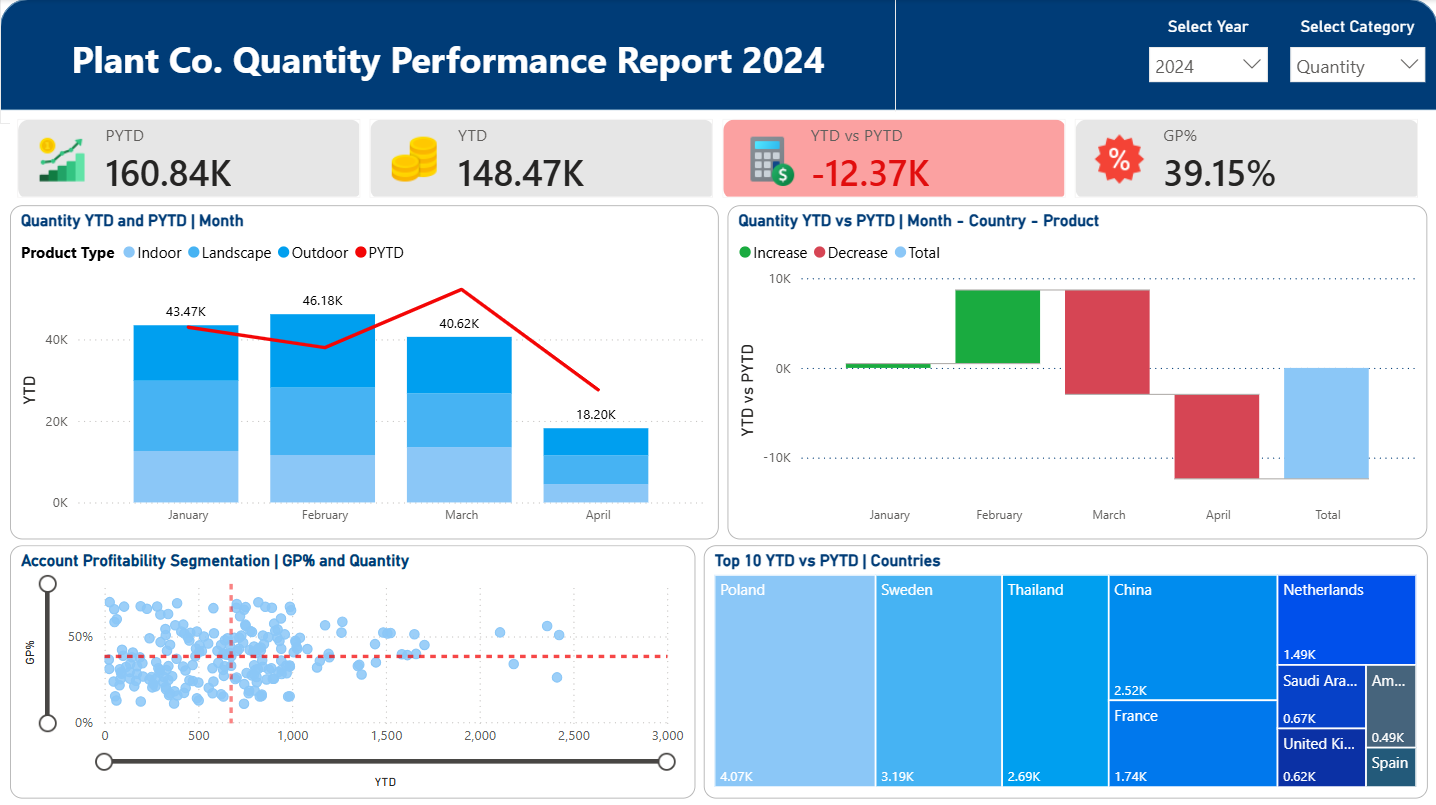

What the dashboard file says about the page in this screenshot:
{"tool":"powerbi","page":{"name":"Page 1","canvas":[1280,720],"ordinal":0},"visuals":[{"type":"shape","box":[0,0,1280.2,99.1],"z":0},{"type":"cardVisual","fields":{"Data":["_Measures._Report title"]},"box":[0,0,798.5,111.7],"z":1000},{"type":"slicer","title":"Select Category","fields":{"Values":["Slc_Values.Values"]},"box":[1138.8,15.6,140.3,82.4],"z":2000},{"type":"slicer","title":"Select Year","fields":{"Values":["Dim_Date.Date.Variation.Date Hierarchy.Year"]},"box":[1013,15.6,125.8,82.4],"z":3000},{"type":"waterfallChart","fields":{"Y":["_Measures.YTD vs PYTD"],"Category":["Dim_Date.Date.Variation.Date Hierarchy.Month","Dim_Account.country","Dim_Product.Produt_Type","Dim_Product.Product_Name"]},"box":[648.4,183.7,623.2,297.8],"z":4000},{"type":"lineStackedColumnComboChart","fields":{"Y2":["_Measures.S_PYTD"],"Y":["_Measures.S_YTD"],"Category":["Dim_Date.Date.Variation.Date Hierarchy.Quarter","Dim_Date.Date.Variation.Date Hierarchy.Month"],"Series":["Dim_Product.Produt_Type"]},"box":[8.4,183.5,631.6,297.8],"z":5000},{"type":"scatterChart","fields":{"Y":["_Measures.GP%"],"X":["_Measures.S_YTD"],"Category":["Dim_Account.Account"]},"box":[8.9,486.5,610,226],"z":6000},{"type":"treemap","title":"Top 10 YTD vs PYTD | Countries","fields":{"Values":["_Measures.YTD vs PYTD"],"Group":["Dim_Account.country"]},"box":[626.8,486.3,644.8,225.7],"z":7000},{"type":"cardVisual","fields":{"Data":["_Measures.S_PYTD","_Measures.S_YTD","_Measures.YTD vs PYTD","_Measures.GP%"]},"box":[8.9,100.2,1262.3,83.5],"z":9000}]}

Visuals, with their boxes in screenshot pixels (x1, y1, x2, y2), scaled from the page's 1280x720 canvas onto the 1436x805 screenshot:
shape: (left=0, top=0, right=1435, bottom=111)
cardVisual - _Measures._Report title: (left=0, top=0, right=896, bottom=125)
"Select Category" slicer: (left=1278, top=17, right=1435, bottom=110)
"Select Year" slicer: (left=1136, top=17, right=1278, bottom=110)
waterfallChart - _Measures.YTD vs PYTD x Dim_Date.Date.Variation.Date Hierarchy.Month: (left=727, top=205, right=1427, bottom=538)
lineStackedColumnComboChart - _Measures.S_PYTD x _Measures.S_YTD: (left=9, top=205, right=718, bottom=538)
scatterChart - _Measures.GP% x _Measures.S_YTD: (left=10, top=544, right=694, bottom=797)
"Top 10 YTD vs PYTD | Countries" treemap: (left=703, top=544, right=1427, bottom=796)
cardVisual - _Measures.S_PYTD x _Measures.S_YTD: (left=10, top=112, right=1426, bottom=205)
